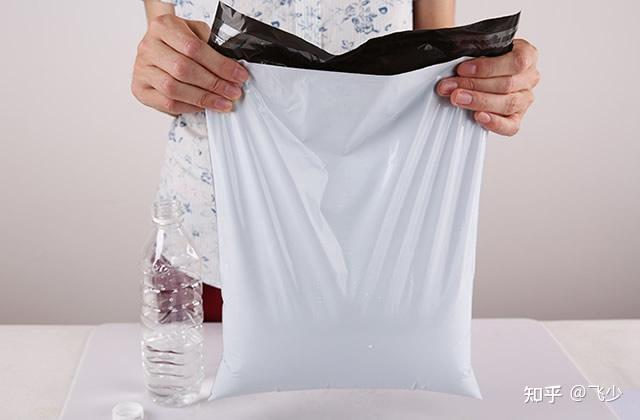Parcel: (206, 61, 485, 395)
